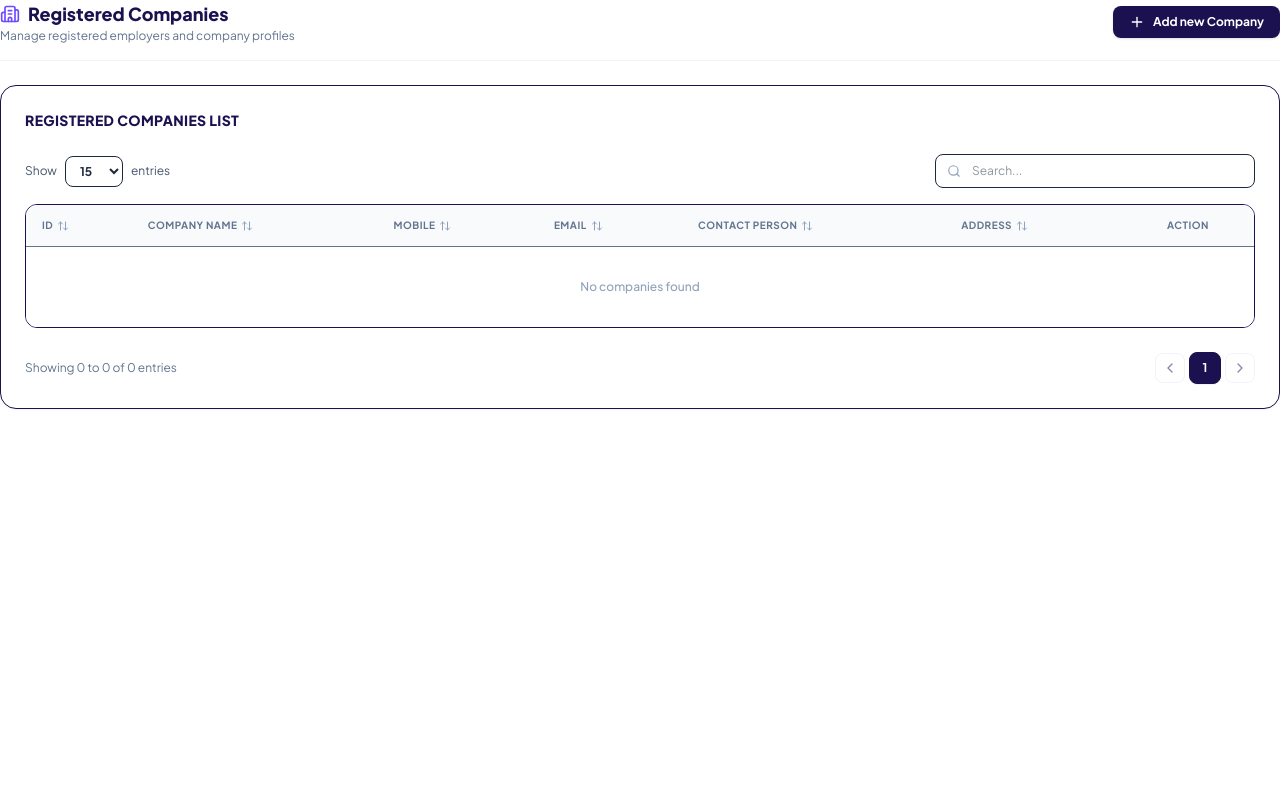
Scenario: AdminRegisteredCompanies › opens add company modal
Click the button "Add new Company": (1197, 22) left=1113, top=6, right=1279, bottom=38
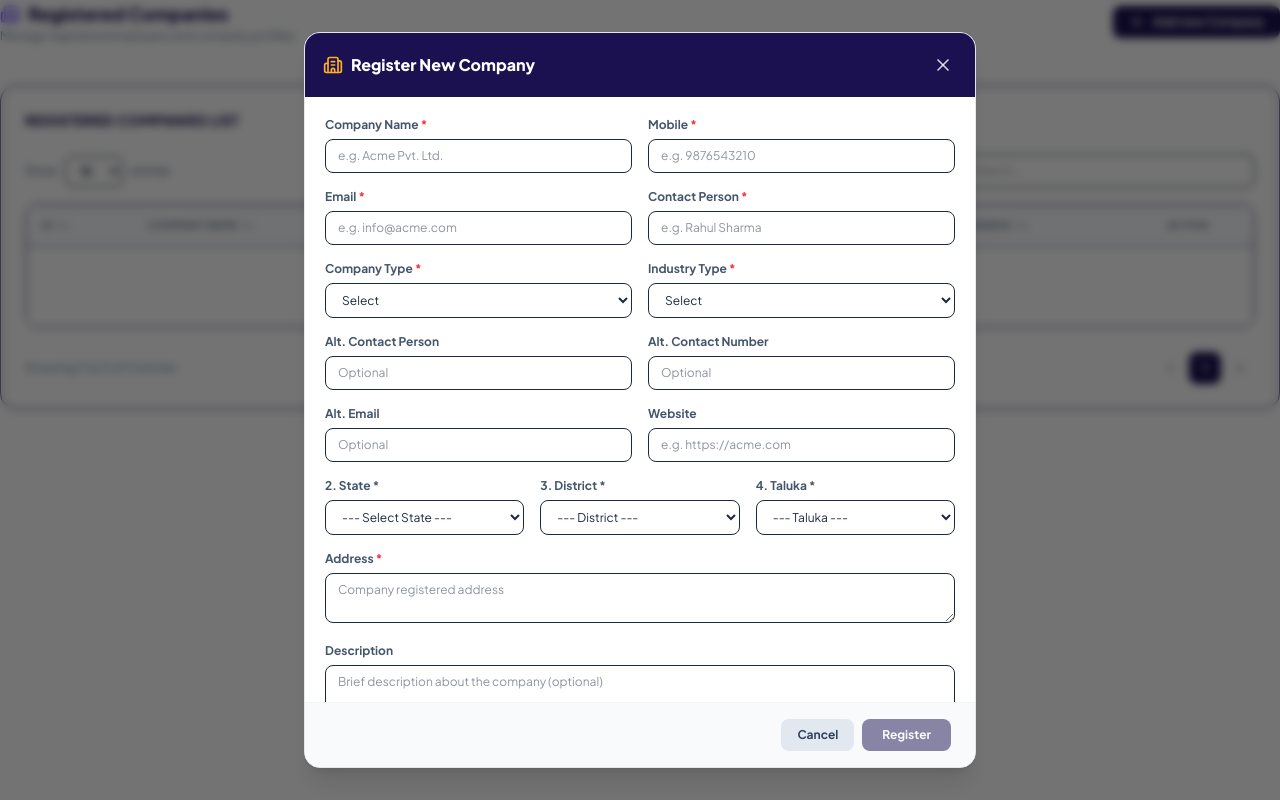
Expected: the heading "Register New Company" is shown, left=351, top=53, right=535, bottom=77
Expected: the field with placeholder "e.g. Acme Pvt. Ltd." is shown, left=325, top=139, right=632, bottom=173
Expected: the dropdown labelled "2. State *" is shown, left=325, top=500, right=524, bottom=535
